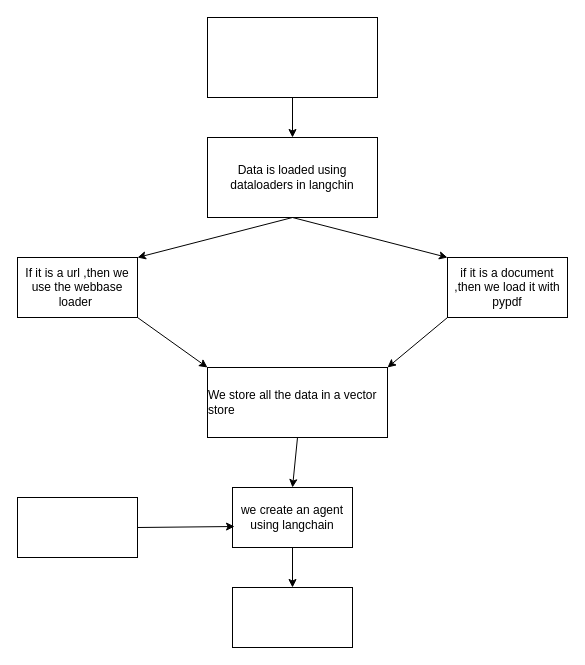
This 585x665 diagram has some shape labels left out. The shapes that lost their labels are listed below. From the top down, each one's box as (x1, y1, x2, y2) in pixels, then its label:
(206, 16, 378, 98): Here input can be a link or document from the user
(16, 496, 138, 558): We take query from the user
(232, 586, 352, 648): Output from the agent
